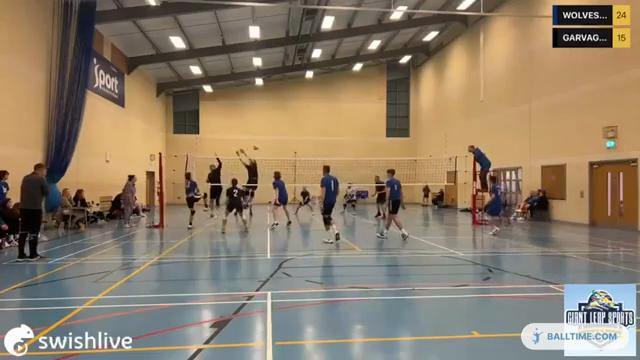Block: (233, 145, 260, 206)
Player: (377, 169, 408, 239), (320, 165, 339, 243), (221, 178, 247, 233), (270, 171, 291, 228), (207, 154, 222, 217), (185, 172, 201, 228), (487, 175, 502, 234), (374, 175, 386, 221), (294, 186, 313, 215), (341, 183, 356, 213)
ball: (252, 144, 262, 154)
